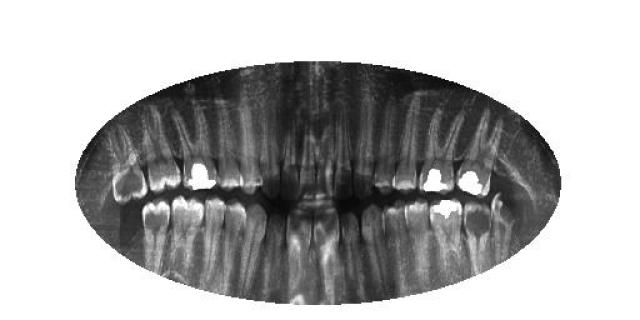Cavity: (106, 126, 149, 204), (142, 198, 172, 272), (462, 203, 492, 275), (490, 194, 520, 265)
Fillings: (458, 108, 507, 198), (418, 105, 464, 197), (172, 100, 216, 191), (430, 198, 468, 278)
